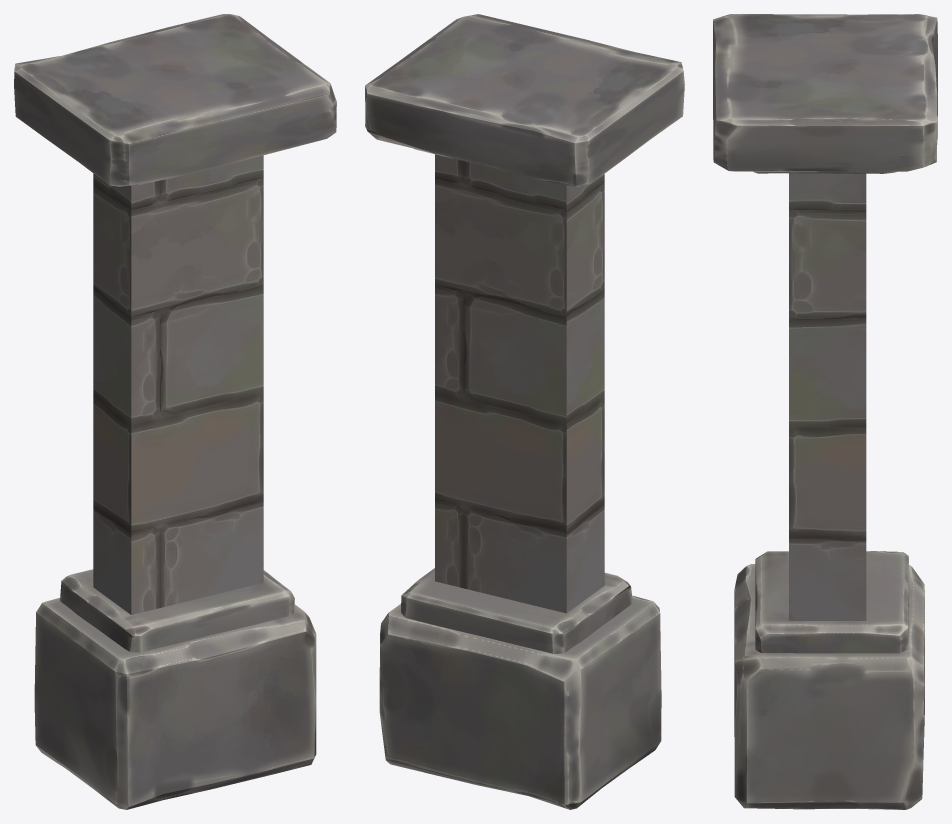
File: PillarWallConnector.fbx
3 views of the same model, side by side, from view 1: azimuth 30°, elevation 25°; view 2: azimuth 150°, elevation 25°; view 3: azimuth 270°, elevation 25° (orthographic).
Parts seen in each view (by area): view 1: PillarWallConnector; view 2: PillarWallConnector; view 3: PillarWallConnector.
Part boxes in pixels (x1,y1,x2,y2): PillarWallConnector: [14, 14, 336, 809]; PillarWallConnector: [365, 14, 684, 809]; PillarWallConnector: [713, 14, 937, 809].
Size of the model in its own units: 138 by 400 by 117.
